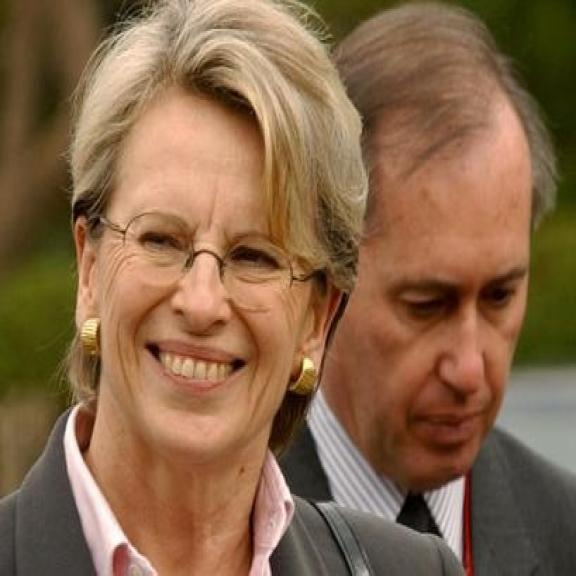face: (82, 93, 342, 466), (351, 106, 538, 485)
